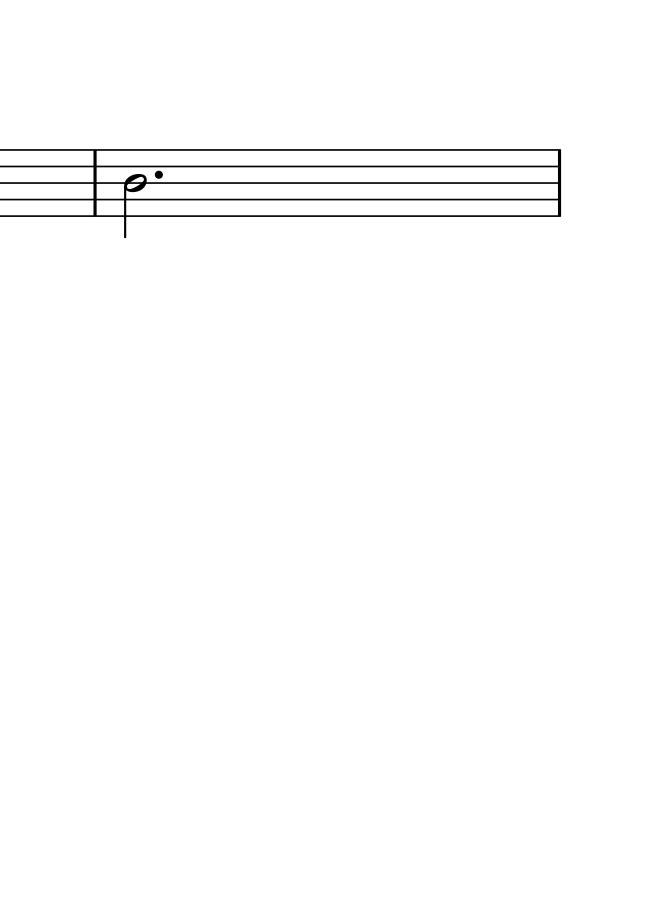2_4: (123, 146, 147, 240)
Single_barline: (551, 150, 567, 216), (88, 151, 102, 215)
dot: (152, 167, 165, 181)
